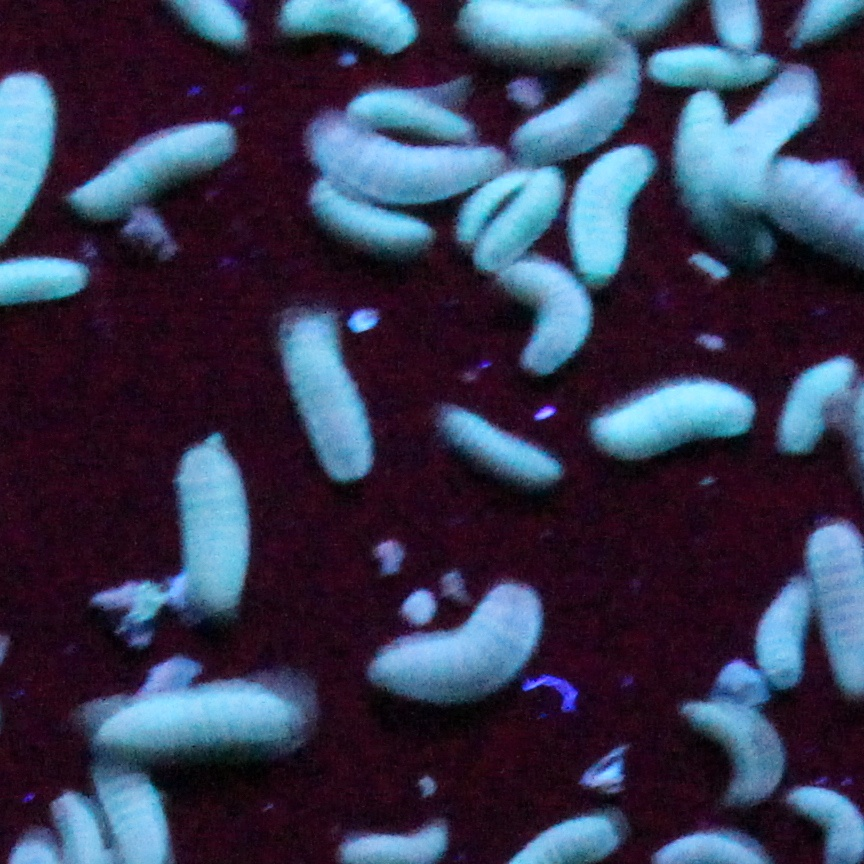larve: (357, 588, 547, 701), (279, 302, 375, 483), (303, 112, 505, 196), (71, 113, 234, 216), (566, 139, 660, 293), (506, 50, 633, 159), (92, 676, 309, 739), (171, 443, 245, 605), (590, 385, 758, 453), (442, 401, 555, 501), (728, 75, 810, 212), (690, 692, 790, 801), (771, 347, 856, 455), (509, 259, 579, 375), (340, 89, 475, 147), (309, 200, 436, 257), (475, 181, 554, 265), (755, 569, 811, 687), (462, 4, 605, 47), (683, 96, 720, 248), (460, 169, 518, 235), (655, 48, 755, 80)
